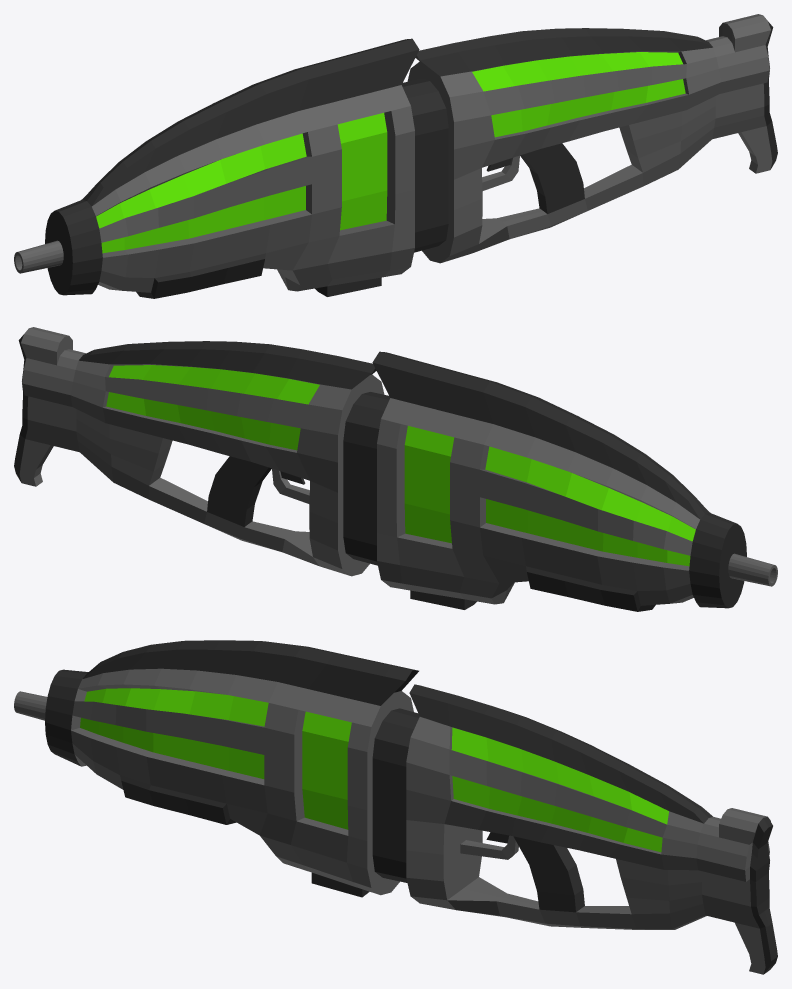
The model's file is Rifle.fbx.
3 renders of one model, top to bottom at view 1: azimuth 30°, elevation 25°; view 2: azimuth 150°, elevation 25°; view 3: azimuth 330°, elevation 25°, orthographic.
Visible parts, largest first — view 1: pSphere1; view 2: pSphere1; view 3: pSphere1.
Boxes of the visible parts, left/top/right/bottom form: pSphere1: left=14, top=14, right=777, bottom=298; pSphere1: left=14, top=327, right=777, bottom=611; pSphere1: left=14, top=640, right=777, bottom=974.
Bounding box in the file's own units: 93.14 × 10.25 × 27.09.
